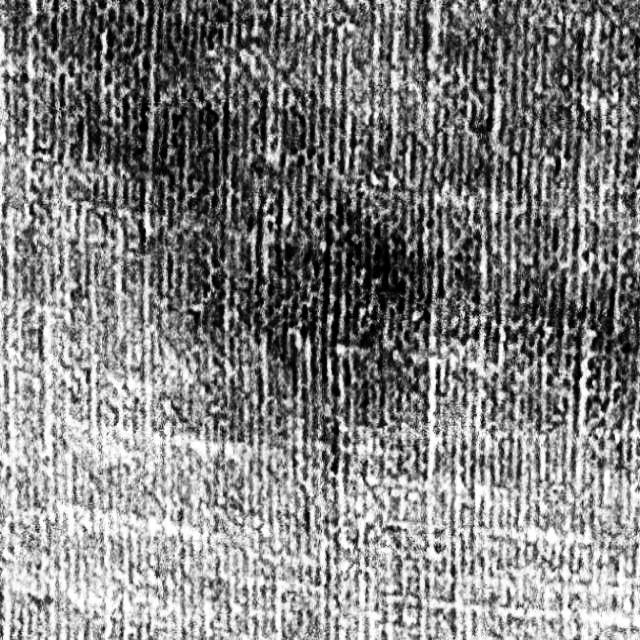Color_defect: (246, 181, 430, 451)
